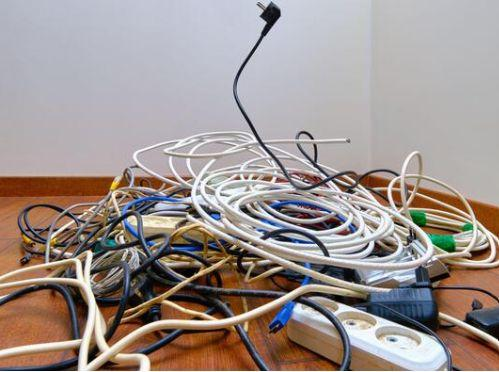electronic: (140, 126, 436, 300), (284, 289, 448, 372), (2, 254, 106, 366), (117, 252, 235, 321), (113, 215, 238, 268), (314, 254, 445, 295), (158, 130, 261, 156), (461, 298, 499, 349)
